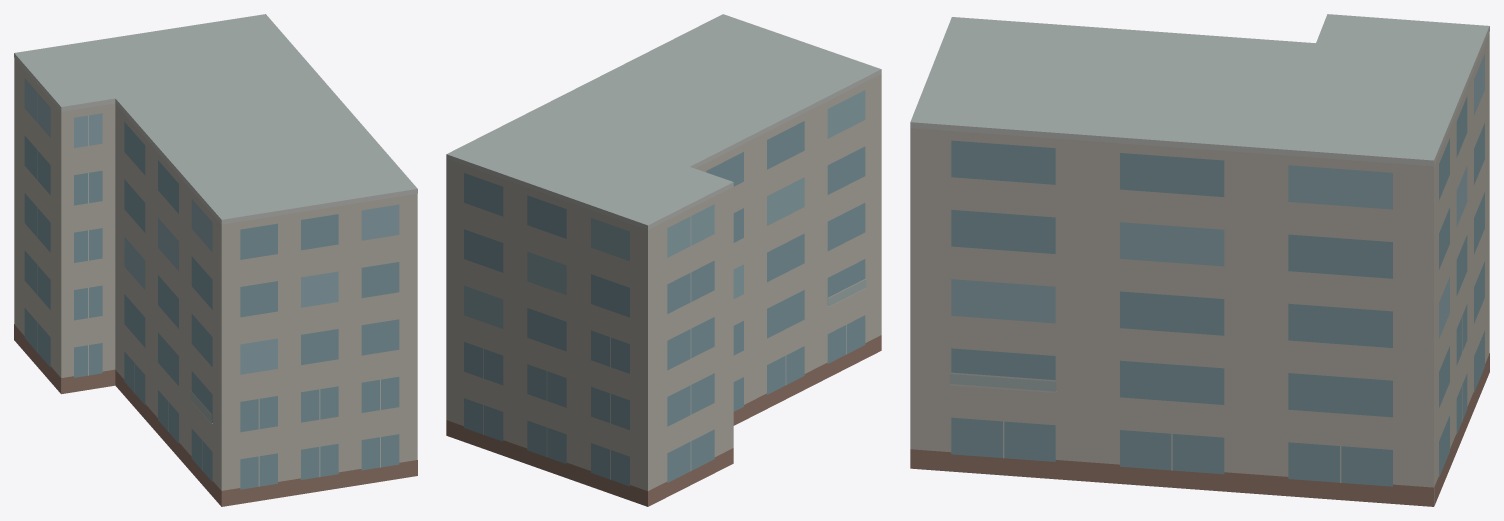
File: survey-upis-32962340.glb
3 renders of one model, left to right at view 1: azimuth 30°, elevation 25°; view 2: azimuth 150°, elevation 25°; view 3: azimuth 270°, elevation 25°, orthographic. The views are drawn at different scales.
Parts seen in each view (by area): view 1: survey-upis-32962340.tmp; view 2: survey-upis-32962340.tmp; view 3: survey-upis-32962340.tmp.
Boxes of the visible parts, x1,y1,x2,y2 form: survey-upis-32962340.tmp: (14, 14, 417, 506); survey-upis-32962340.tmp: (446, 14, 881, 506); survey-upis-32962340.tmp: (910, 14, 1489, 506).
Bounding box in the file's own units: 13.34 × 14.7 × 22.3.
